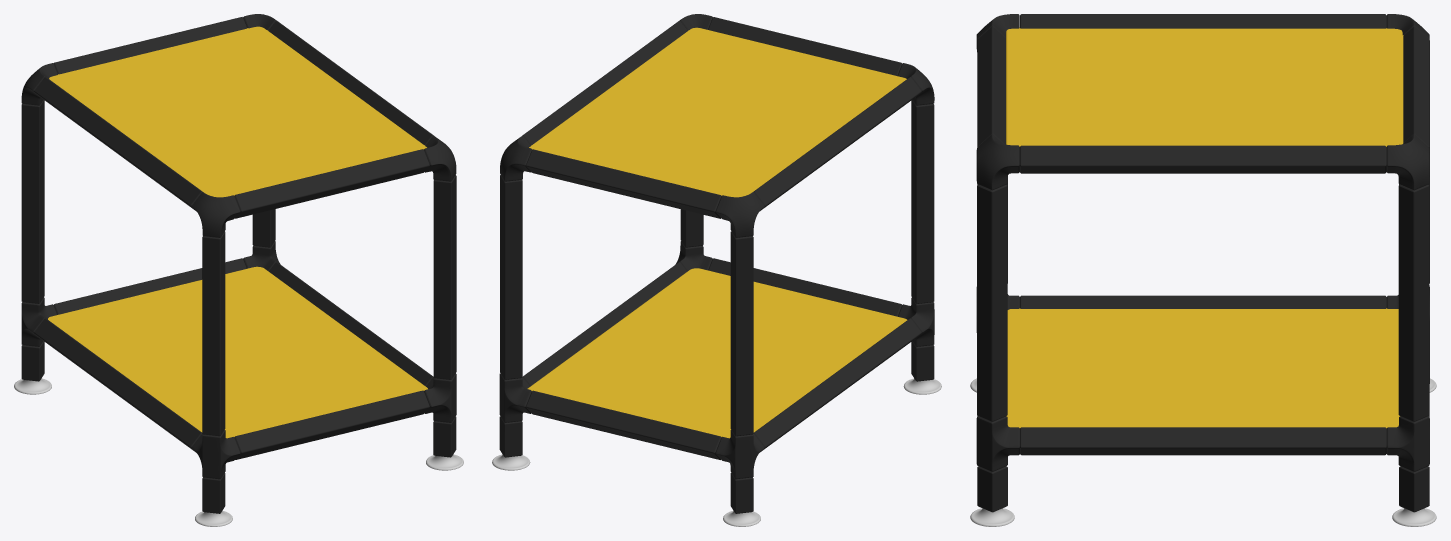
3 renders of one model, left to right at view 1: azimuth 30°, elevation 25°; view 2: azimuth 150°, elevation 25°; view 3: azimuth 270°, elevation 25°, orthographic. The views are drawn at different scales.
Parts seen in each view (by area): view 1: 229x329x229; view 2: 229x329x229; view 3: 229x329x229.
Part boxes in pixels (x1,y1,x2,y2): 229x329x229: [14, 14, 463, 526]; 229x329x229: [492, 14, 941, 526]; 229x329x229: [970, 14, 1436, 526].
Bounding box in the file's own units: 0.3189 × 0.3683 × 0.4182.
